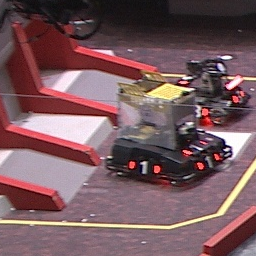Red: (129, 157, 161, 178), (180, 139, 212, 157), (192, 153, 222, 171), (194, 104, 208, 119), (232, 90, 246, 104)
Robot: (106, 73, 233, 186), (167, 55, 250, 126)
